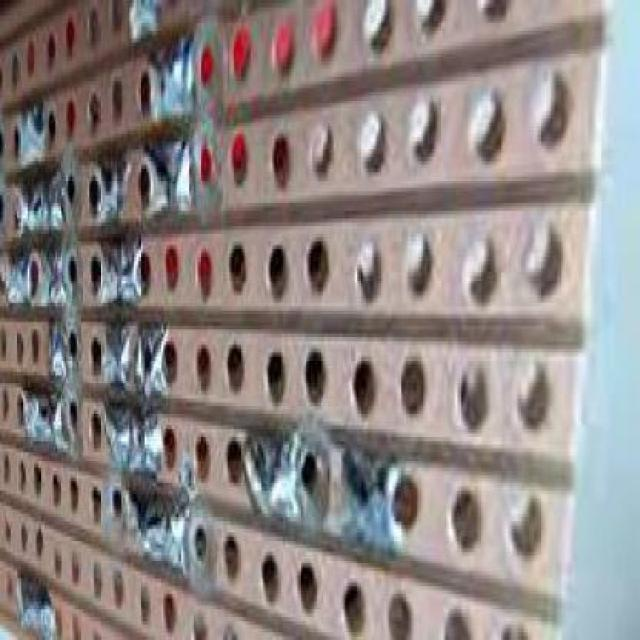Soldering bridge: (98, 318, 170, 392), (100, 406, 162, 479)
